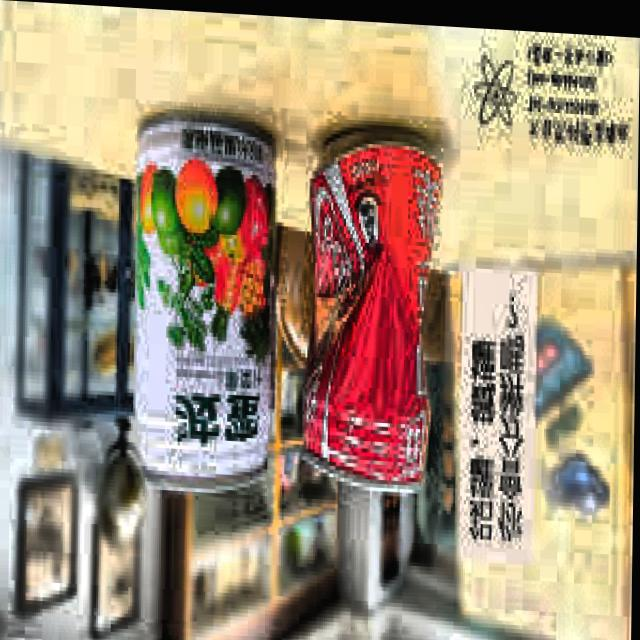can: (124, 96, 283, 500), (298, 113, 448, 506)
